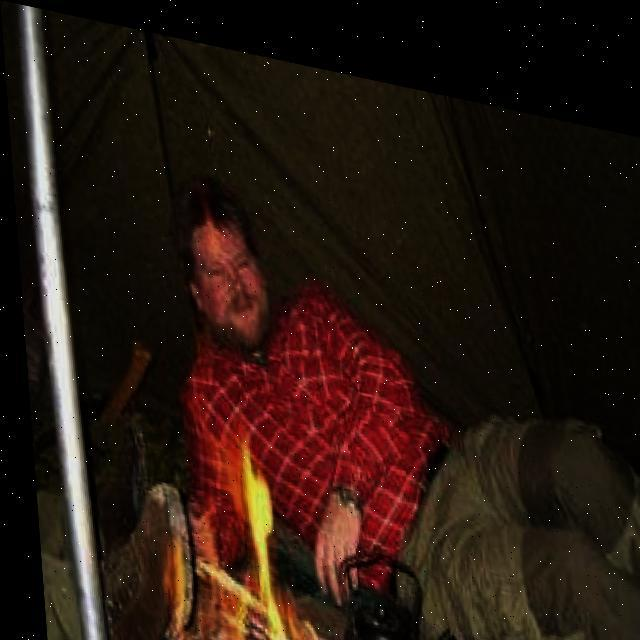Fire: (137, 415, 359, 639)
